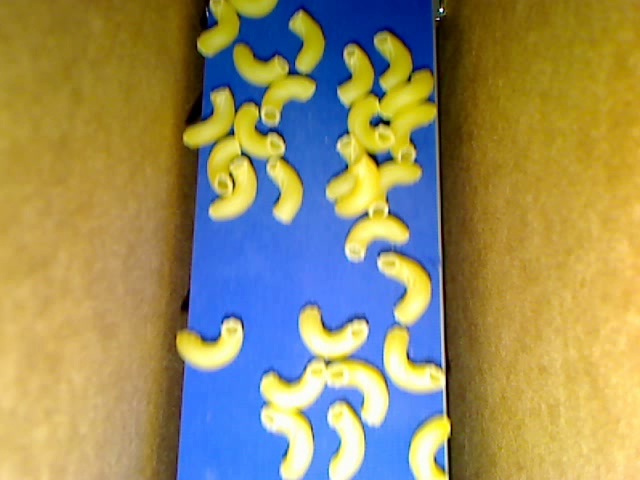elbow: (325, 359, 389, 428), (383, 325, 446, 395), (375, 251, 432, 326), (176, 313, 246, 372), (260, 403, 313, 479), (297, 304, 369, 359), (366, 158, 423, 219), (258, 359, 326, 410), (181, 87, 235, 148), (344, 213, 411, 262), (208, 156, 257, 222), (233, 101, 285, 161), (387, 101, 437, 163), (378, 68, 435, 120), (327, 401, 365, 479), (347, 93, 395, 153), (260, 75, 316, 126), (335, 154, 378, 220), (325, 134, 365, 202), (408, 414, 449, 479), (287, 9, 326, 76), (233, 43, 289, 88), (266, 156, 302, 225), (197, 1, 239, 59), (336, 44, 374, 108), (373, 31, 412, 92), (205, 134, 241, 197), (227, 1, 279, 19)
